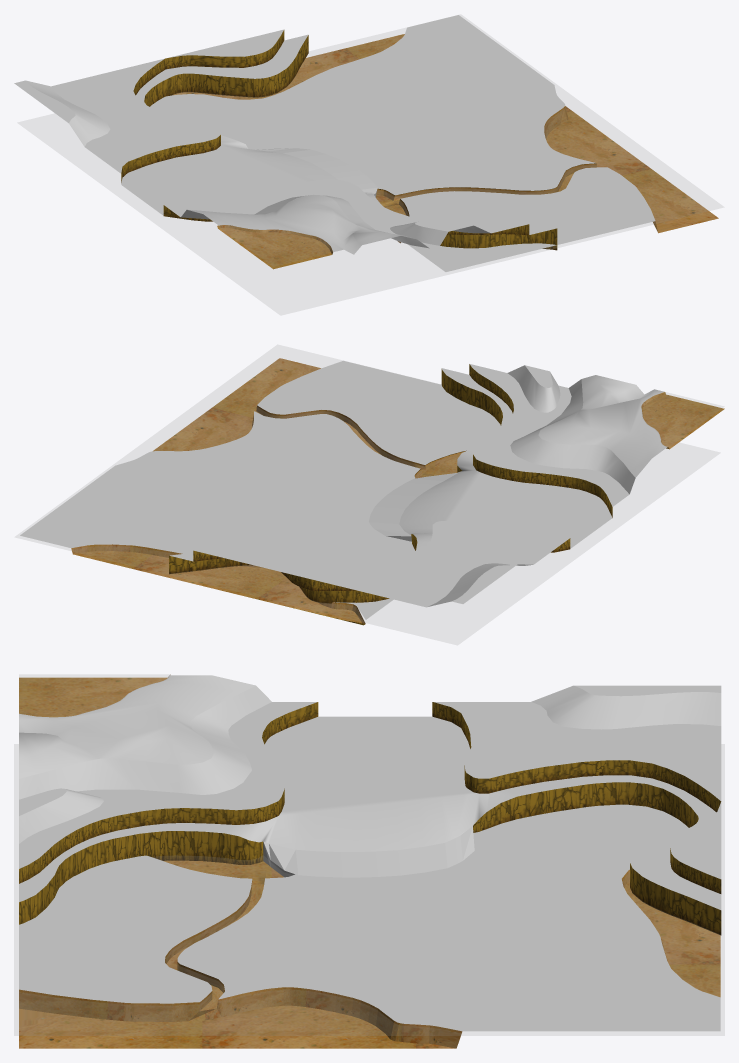
Rendered from Terrain Model (1).FBX.
3 views of the same model, one above another, from view 1: azimuth 30°, elevation 25°; view 2: azimuth 150°, elevation 25°; view 3: azimuth 270°, elevation 25° (orthographic). The views are drawn at different scales.
Visible parts, largest first — view 1: Plane005, Plane029, Object019, Object006, Object015, Object004, Object022, Object021, Object007, Plane006, Plane003; view 2: Plane005, Plane029, Object019, Object006, Object015, Object004, Object007, Object021, Object022, Plane006, Plane003; view 3: Plane005, Object019, Object015, Plane029, Object006, Object007, Object004, Object022, Object021, Plane003, Plane006.
Boxes of the visible parts, bbox=[...] form: Plane005: bbox=[150, 15, 655, 271]; Plane029: bbox=[18, 15, 722, 314]; Object019: bbox=[121, 34, 556, 234]; Object006: bbox=[51, 29, 528, 248]; Object015: bbox=[173, 34, 718, 243]; Object004: bbox=[14, 80, 472, 254]; Object022: bbox=[144, 35, 557, 250]; Object021: bbox=[121, 30, 529, 235]; Object007: bbox=[26, 80, 490, 248]; Plane006: bbox=[217, 225, 332, 269]; Plane003: bbox=[218, 225, 332, 266]; Plane005: bbox=[20, 360, 500, 619]; Plane029: bbox=[15, 345, 719, 644]; Object019: bbox=[170, 368, 612, 577]; Object006: bbox=[194, 364, 629, 607]; Object015: bbox=[71, 358, 466, 625]; Object004: bbox=[452, 365, 667, 603]; Object007: bbox=[428, 365, 635, 606]; Object021: bbox=[193, 364, 612, 590]; Object022: bbox=[169, 369, 502, 603]; Plane006: bbox=[641, 392, 724, 449]; Plane003: bbox=[641, 392, 723, 446]; Plane005: bbox=[19, 804, 720, 1031]; Object019: bbox=[19, 716, 721, 909]; Object015: bbox=[19, 860, 720, 1048]; Plane029: bbox=[14, 744, 724, 1035]; Object006: bbox=[19, 702, 721, 879]; Object007: bbox=[19, 685, 721, 843]; Object004: bbox=[19, 675, 721, 815]; Object022: bbox=[19, 782, 721, 935]; Object021: bbox=[19, 702, 721, 893]; Plane003: bbox=[19, 675, 169, 716]; Plane006: bbox=[19, 674, 170, 717].
Bounding box in the file's own units: 959 × 123 × 975.
